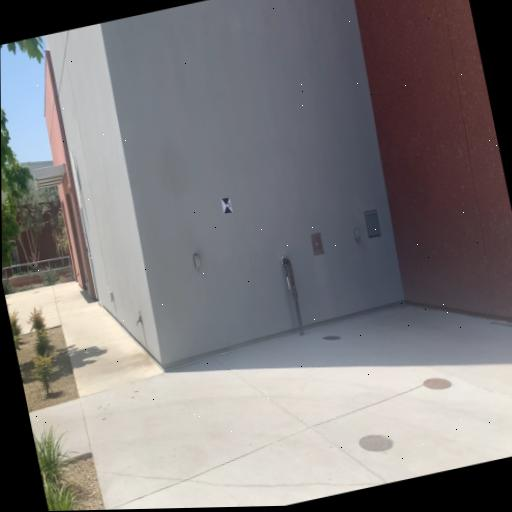target5: (221, 198, 232, 214)
